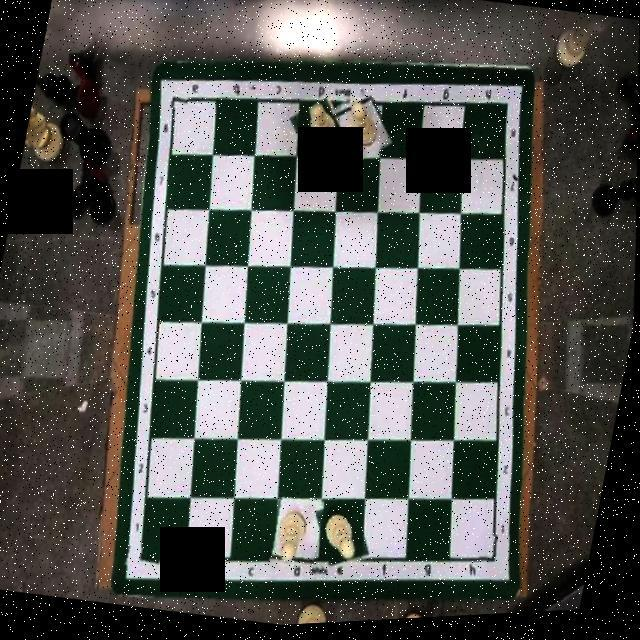chess-table-corners: (478, 81, 532, 140), (474, 534, 518, 586), (124, 542, 168, 578), (157, 79, 195, 116)
